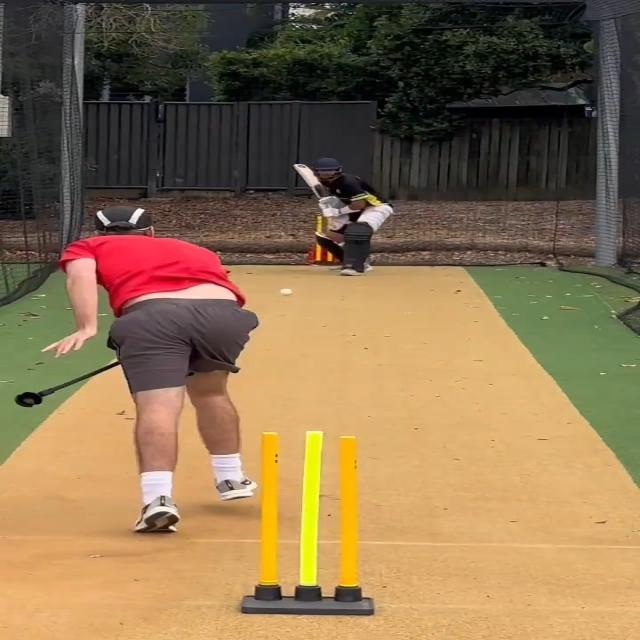ball: (278, 287, 294, 297)
stump: (243, 430, 376, 617)
